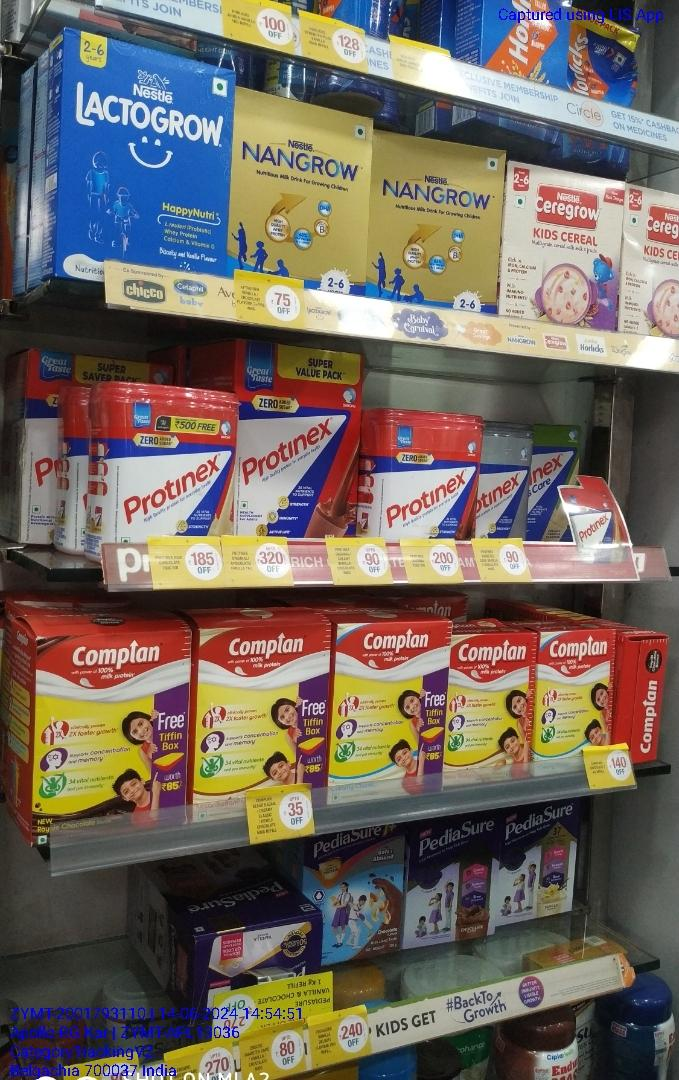COMPLAN_CHOCOLATE_500_GMS_PACK: (32, 636, 192, 829)
COMPLAN_CREAMY_CLASSIC_500_G_PACK: (328, 621, 442, 799), (537, 630, 614, 745)
COMPLAN_KESAR_BADAM_500_GMS_PACK: (196, 623, 332, 784), (446, 633, 534, 783)
PROTINEX_CHOCOLATE_400_G_JAR: (374, 408, 477, 539)
PROTINEX_ORIGINAL_400_G_JAR: (481, 426, 533, 539)
PROTINEX_VANILLA_400_G_JAR: (112, 379, 236, 538)
